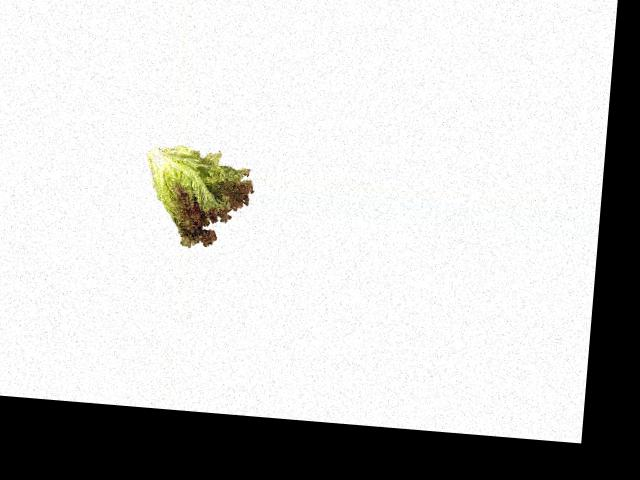lettuce: (141, 144, 257, 251)
